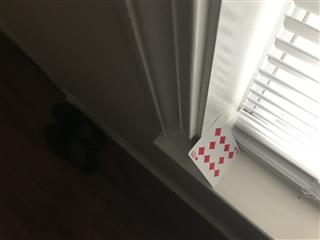TenOfDiamonds: (186, 113, 242, 188)
